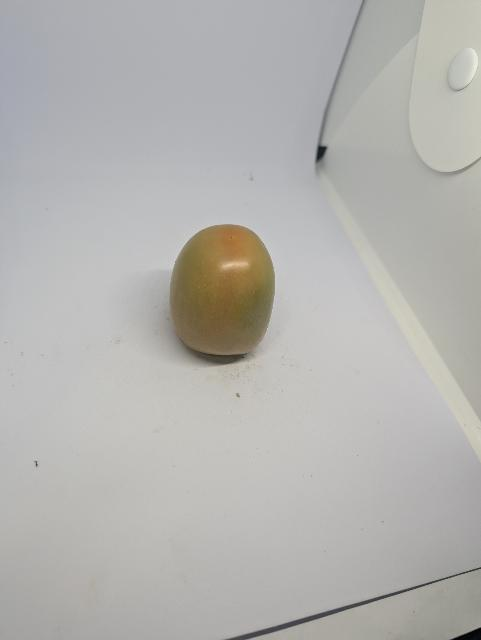breaker: (166, 219, 310, 379)
